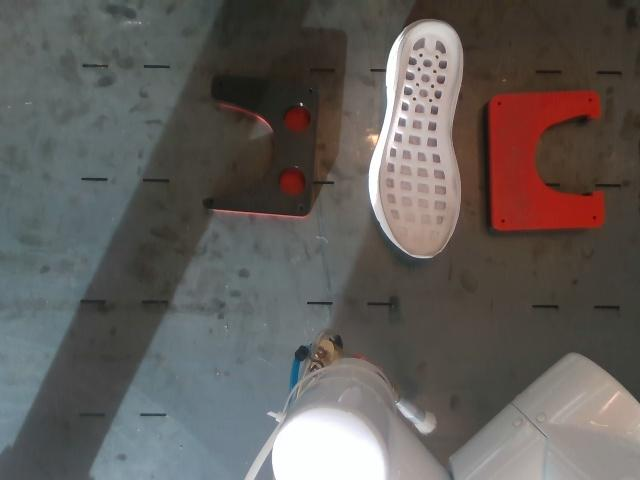shoes: (379, 22, 462, 256)
